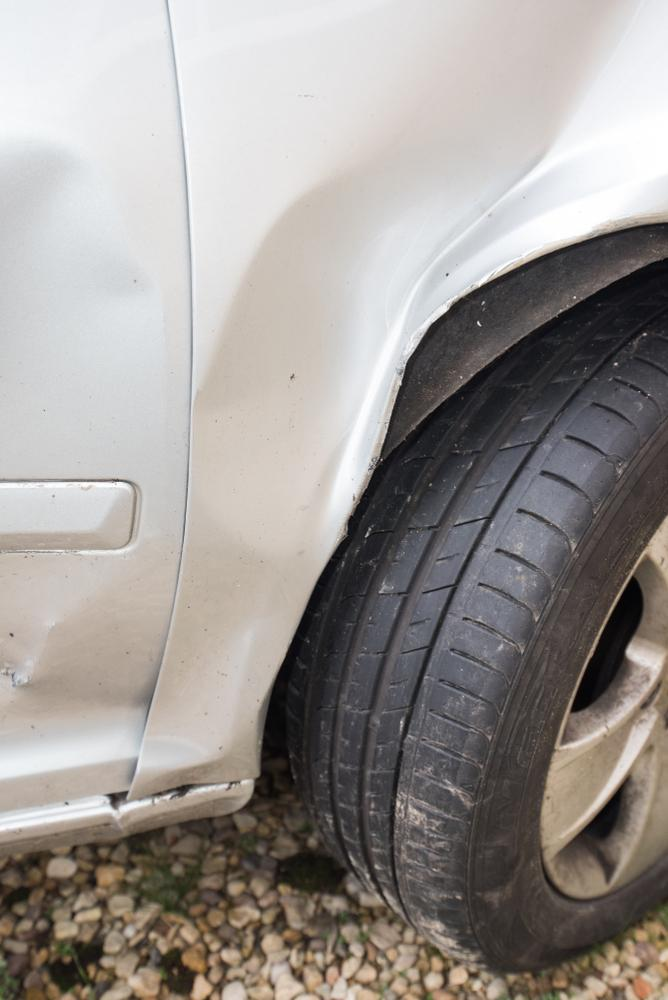dent: (195, 0, 668, 565), (0, 143, 169, 714)
